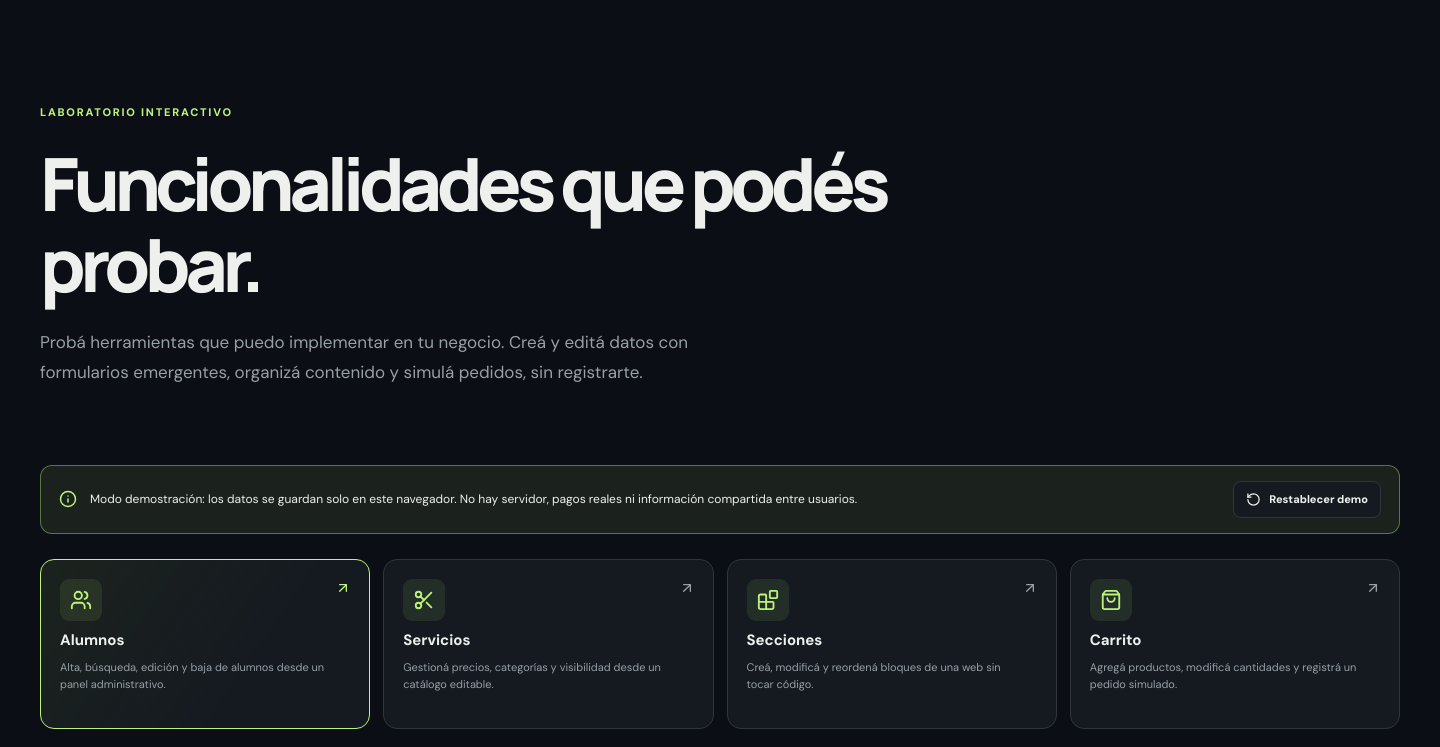
it: Laboratory — additional business workflow regressions › edits a section and removes it from the editor and preview
Click the tab "Secciones" at x=768, y=600, box [726,559,1057,729]
(page scrolled)
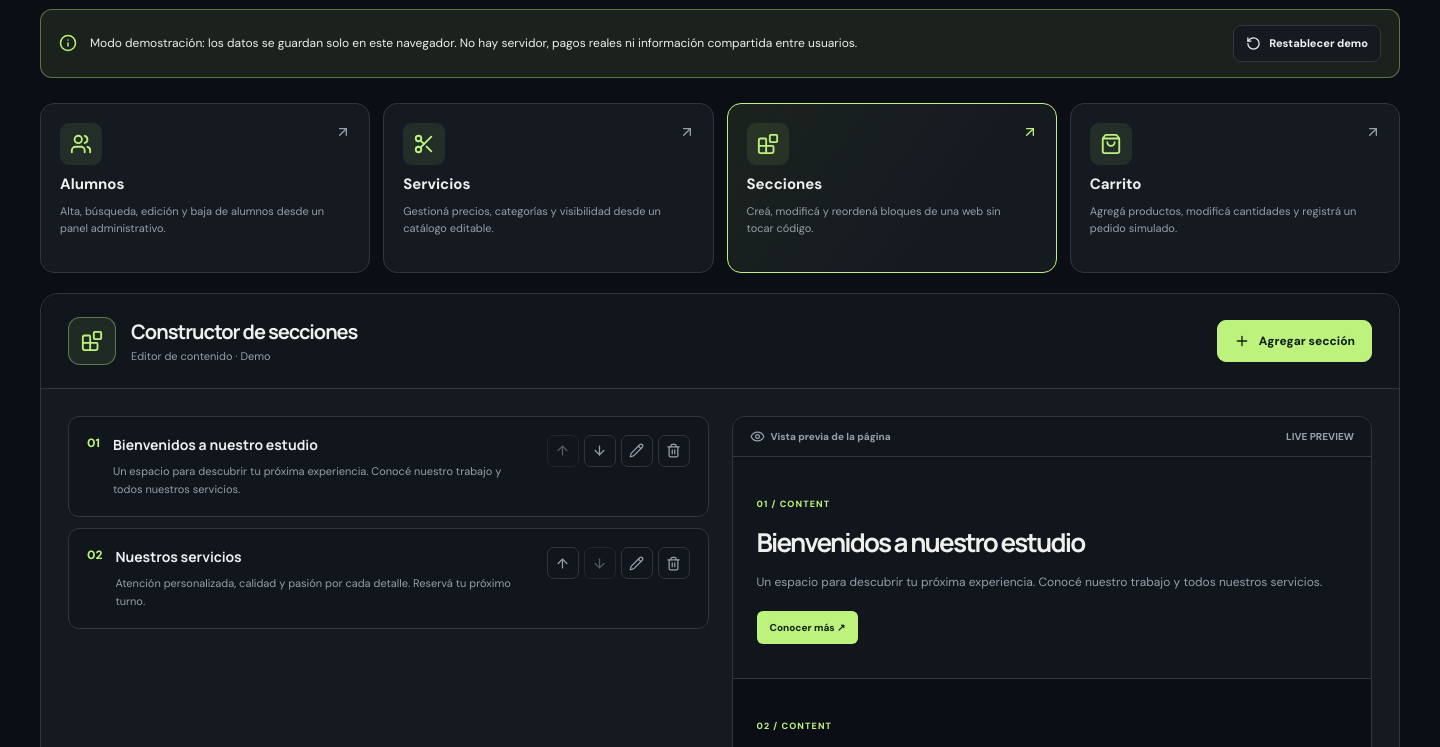
Click the button named "Editar: Bienvenidos a nuestro estudio" at x=636, y=451, box [620,435,652,467]
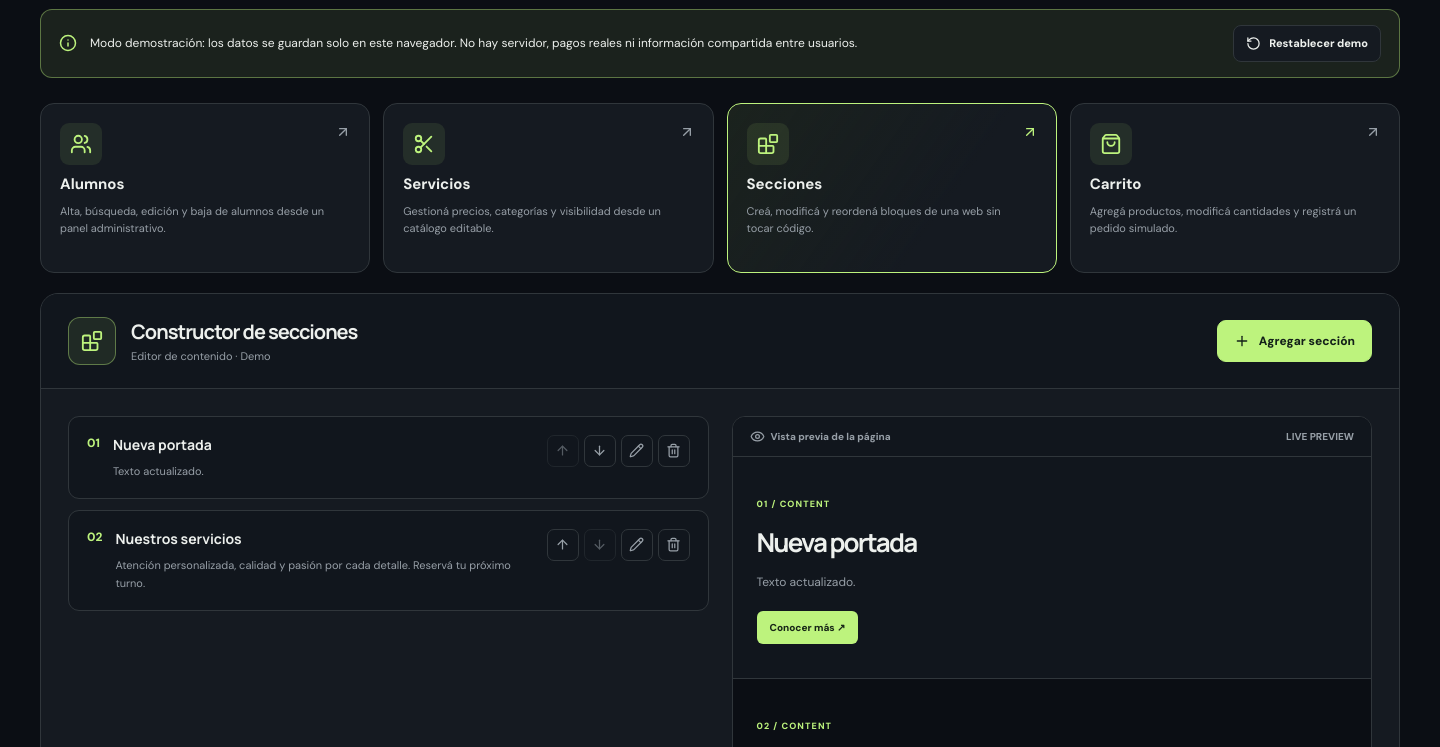
Expected: the number of headings "Nueva portada" is 2, [113,435,212,454]; [756,524,916,560]
Click the button named "Eliminar: Nueva portada" at x=674, y=451, box [658,435,690,467]
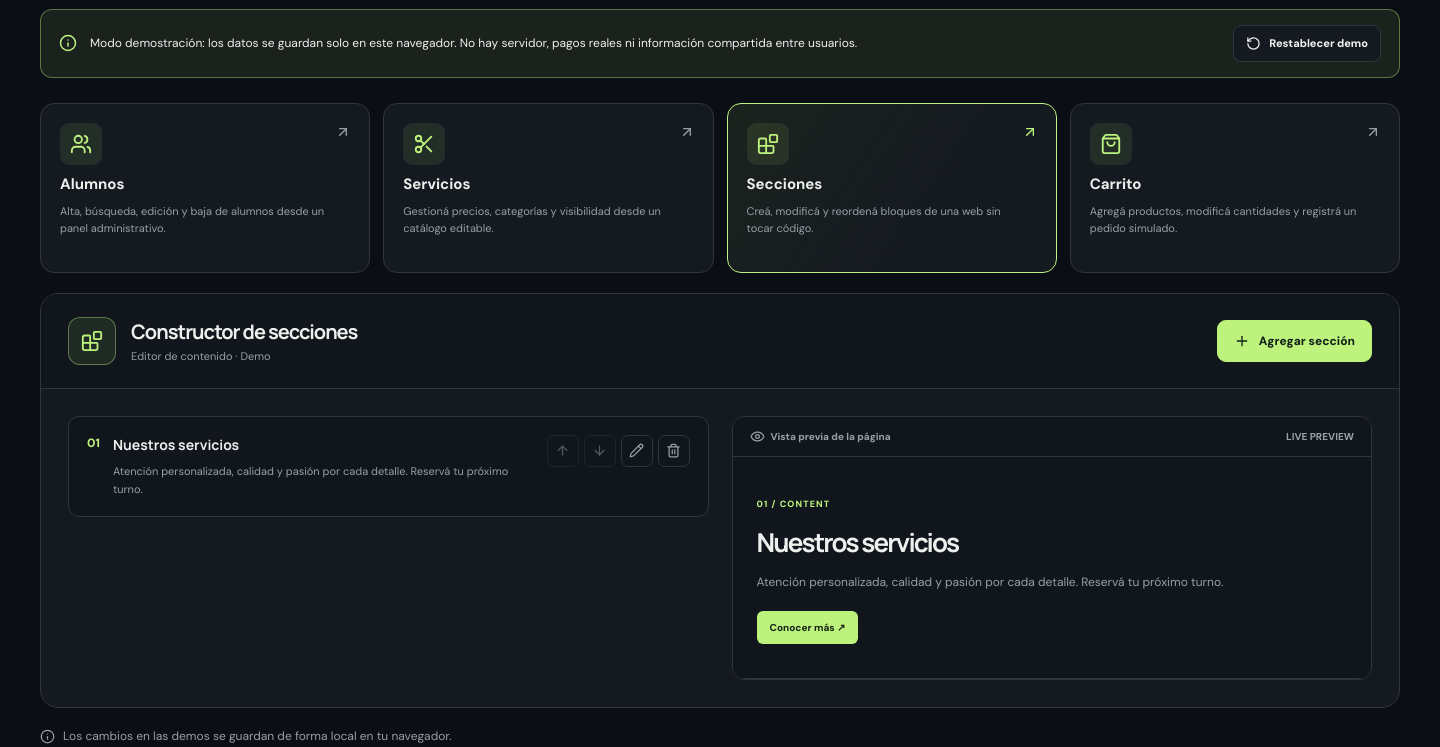
Expected: the heading "Nueva portada" is gone
Expected: the number of headings "Nuestros servicios" is 2, [113,435,239,454]; [756,524,958,560]
